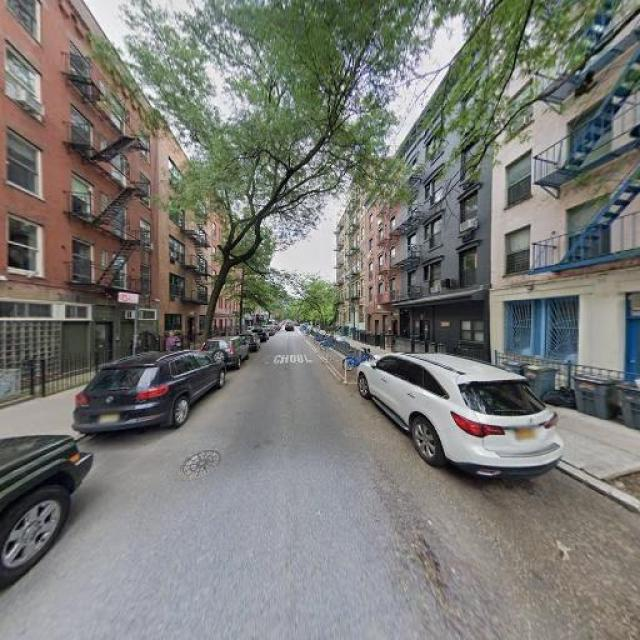Building: (1, 1, 158, 393), (492, 1, 640, 409), (404, 19, 487, 370)
